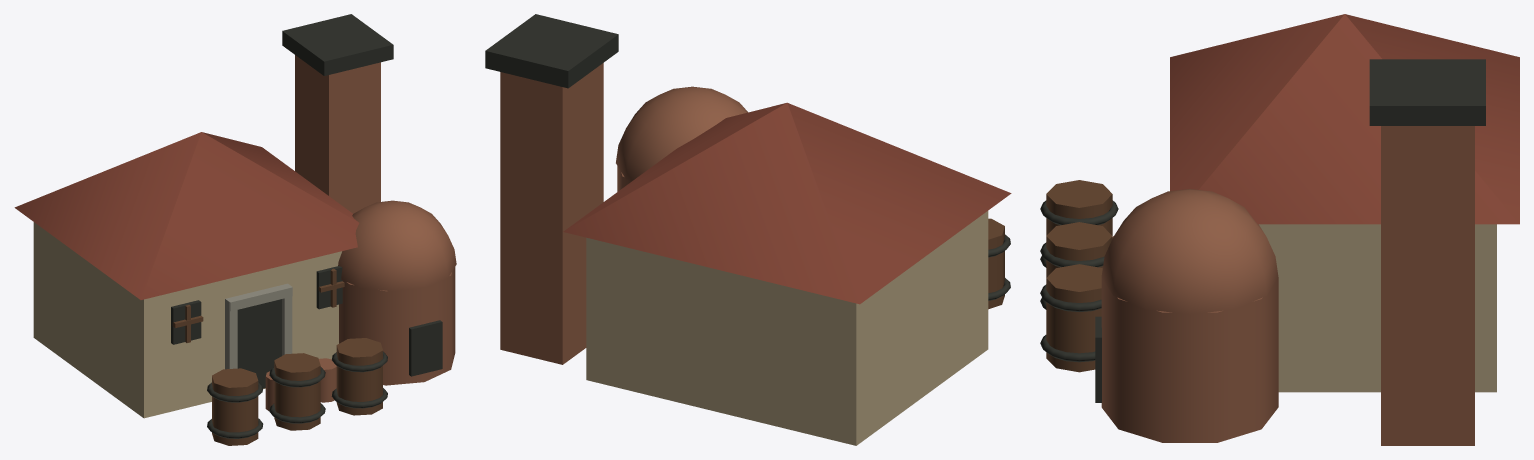
The model's file is custom-imp-powdermill.glb.
The picture shows the model from 3 angles, left to right: view 1: azimuth 30°, elevation 25°; view 2: azimuth 150°, elevation 25°; view 3: azimuth 270°, elevation 25°; orthographic projection. The views are drawn at different scales.
Parts seen in each view (by area): view 1: custom-imp-powdermill; view 2: custom-imp-powdermill; view 3: custom-imp-powdermill.
Part boxes in pixels (box(x1,y1,x2,y2)): custom-imp-powdermill: box(14, 14, 456, 445); custom-imp-powdermill: box(485, 14, 1011, 445); custom-imp-powdermill: box(1040, 14, 1519, 445).
Size of the model in its own units: 1 by 0.736 by 0.9251.
